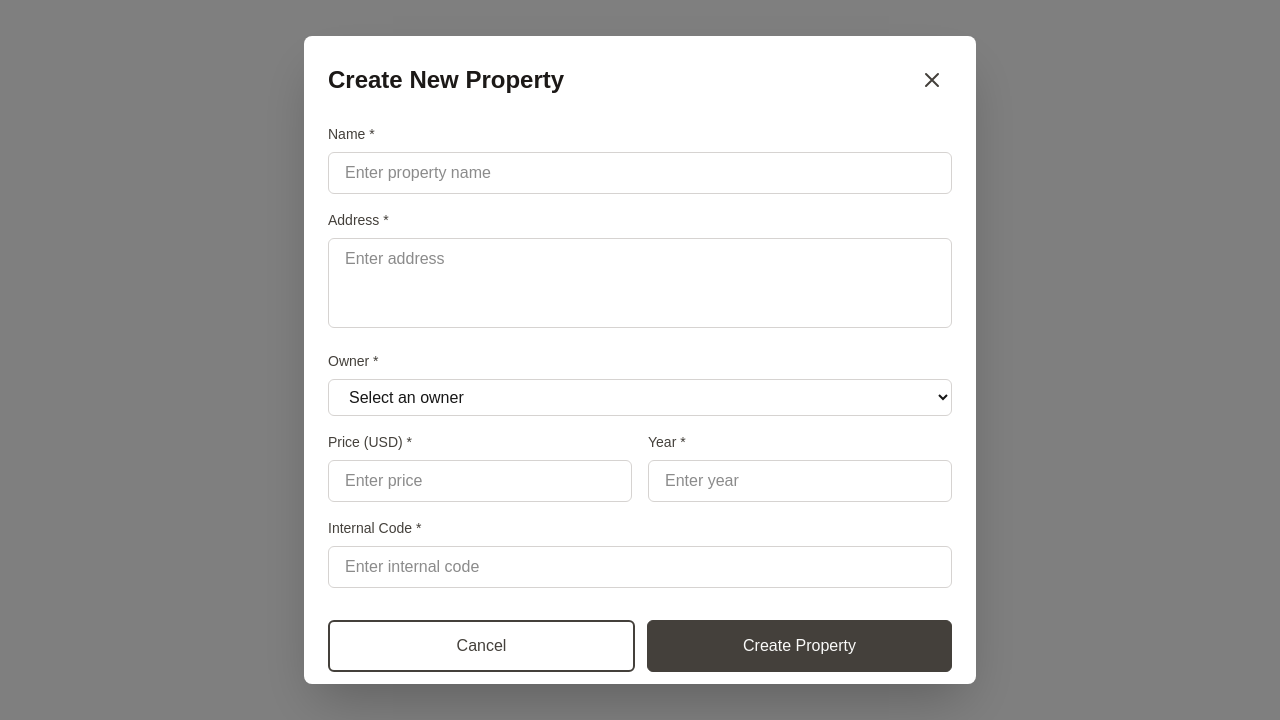
it: CreatePropertyModal › validates required fields
Click the button "Create Property" at (800, 646), box x1=647 y1=620 x2=952 y2=672
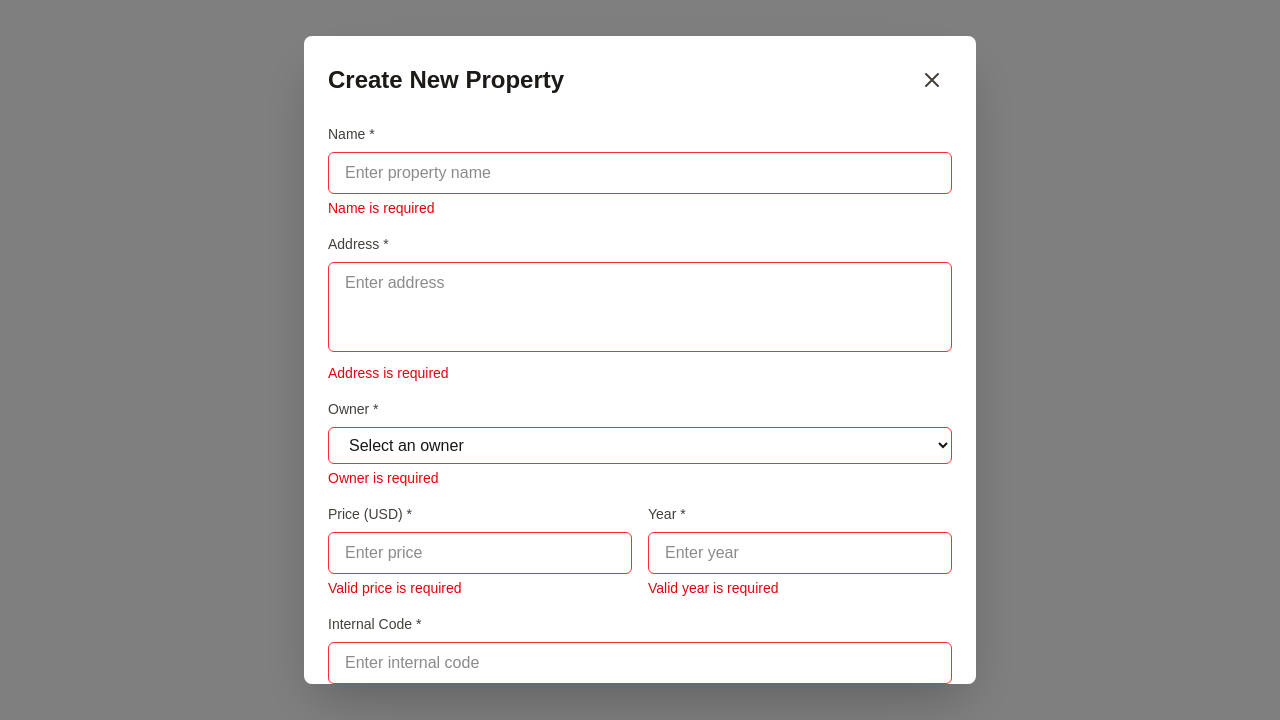
Expected: the text "Name is required" is shown, x1=328 y1=200 x2=435 y2=216
Expected: the text "Address is required" is shown, x1=328 y1=365 x2=449 y2=381
Expected: the text "Owner is required" is shown, x1=328 y1=470 x2=438 y2=486
